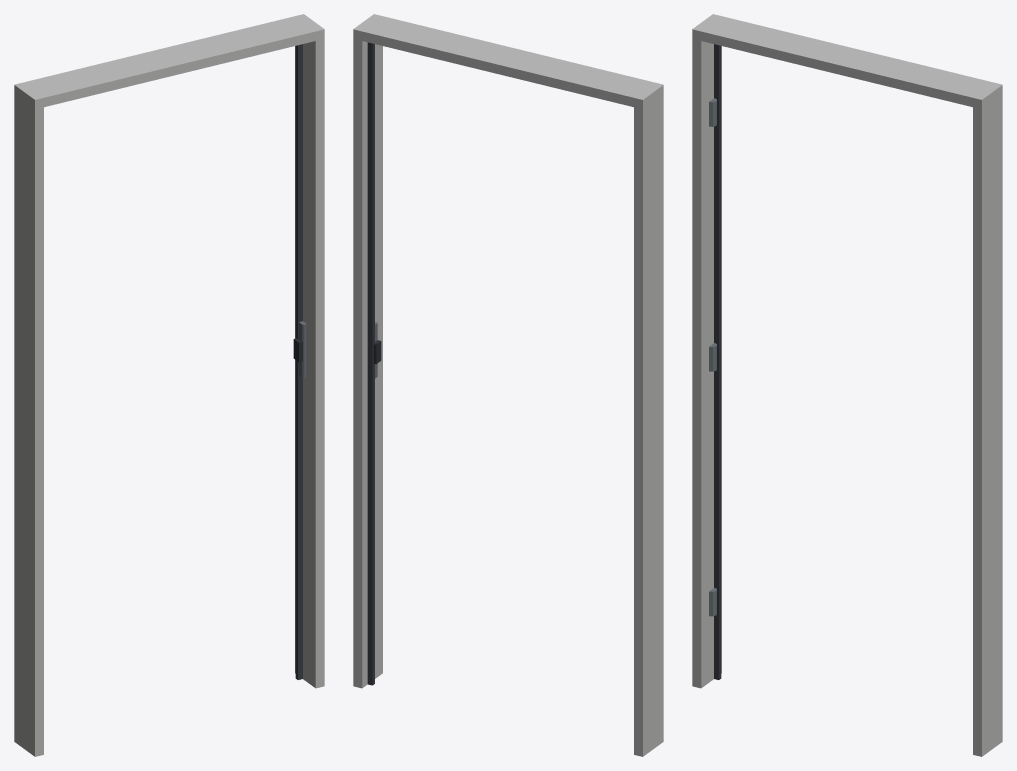
The model's file is SM_LPI_Open_Frame_01.fbx.
The picture shows the model from 3 angles, left to right: view 1: azimuth 30°, elevation 25°; view 2: azimuth 150°, elevation 25°; view 3: azimuth 330°, elevation 25°; orthographic projection.
Visible parts, largest first — view 1: SM_LPI_Open_Frame_01; view 2: SM_LPI_Open_Frame_01; view 3: SM_LPI_Open_Frame_01.
Part boxes in pixels (<box>): SM_LPI_Open_Frame_01: <box>14,14,324,756</box>; SM_LPI_Open_Frame_01: <box>353,14,663,756</box>; SM_LPI_Open_Frame_01: <box>692,14,1002,756</box>.
Size of the model in its own units: 0.96 by 2.08 by 0.12.
